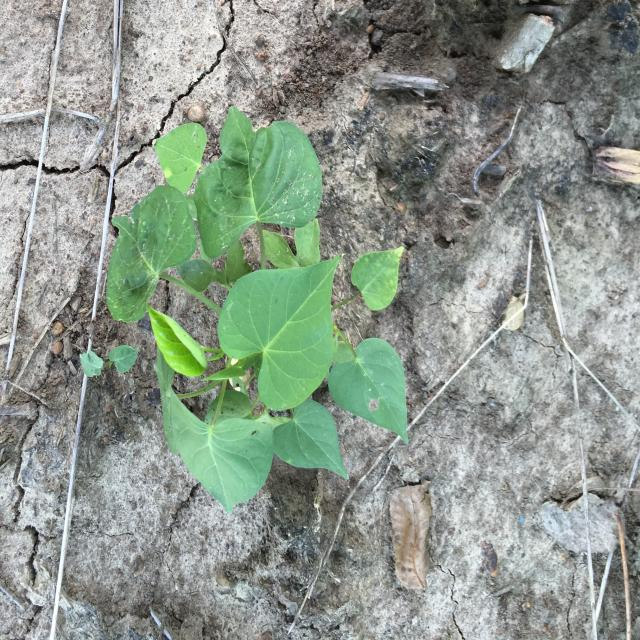MorningGlory: (106, 105, 410, 516), (79, 345, 140, 378)
